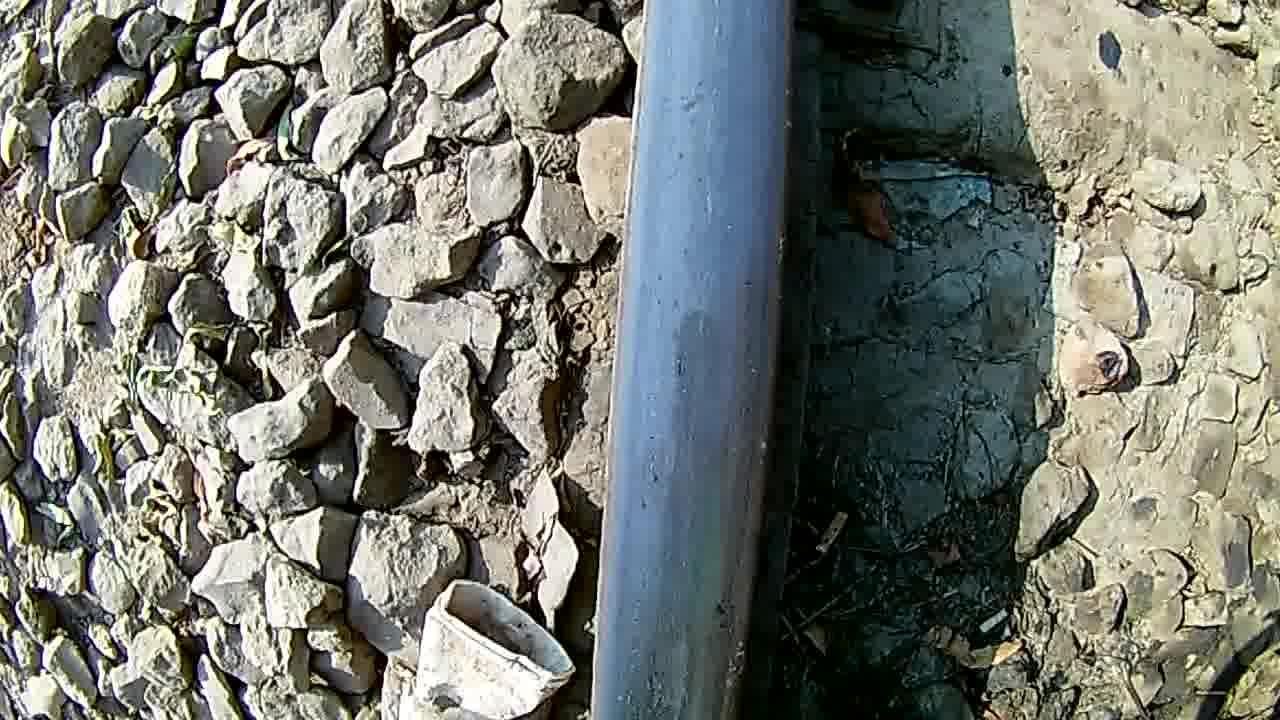bolt_missing: (583, 259, 796, 720)
